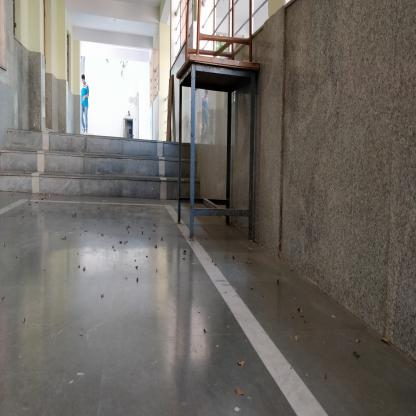stairs: (12, 138, 173, 201)
